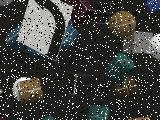Left: (17, 0, 73, 61)
